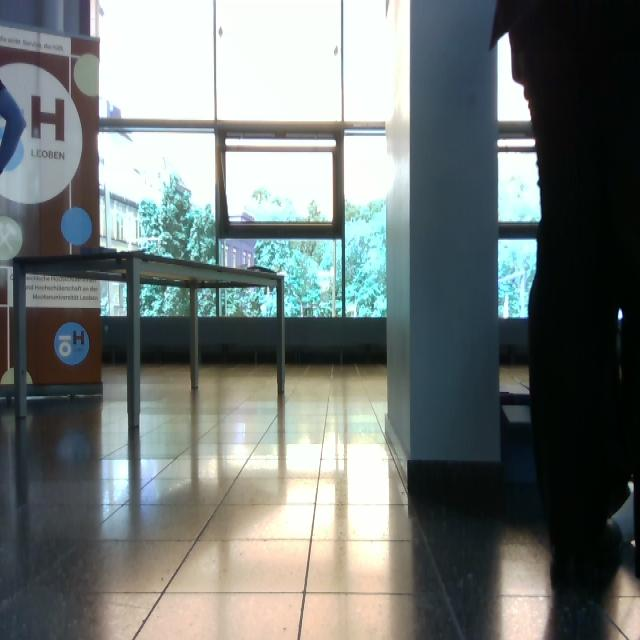person: (492, 3, 640, 577)
pillar: (386, 1, 501, 485)
table: (13, 253, 284, 429)
tiled floor: (1, 356, 640, 640)
tree: (141, 174, 387, 317), (231, 190, 325, 220), (499, 240, 535, 317), (200, 288, 277, 317), (500, 178, 539, 222), (142, 285, 189, 316)
window: (99, 1, 394, 318), (498, 42, 539, 225), (200, 289, 275, 316), (142, 284, 189, 316), (103, 282, 127, 316)
